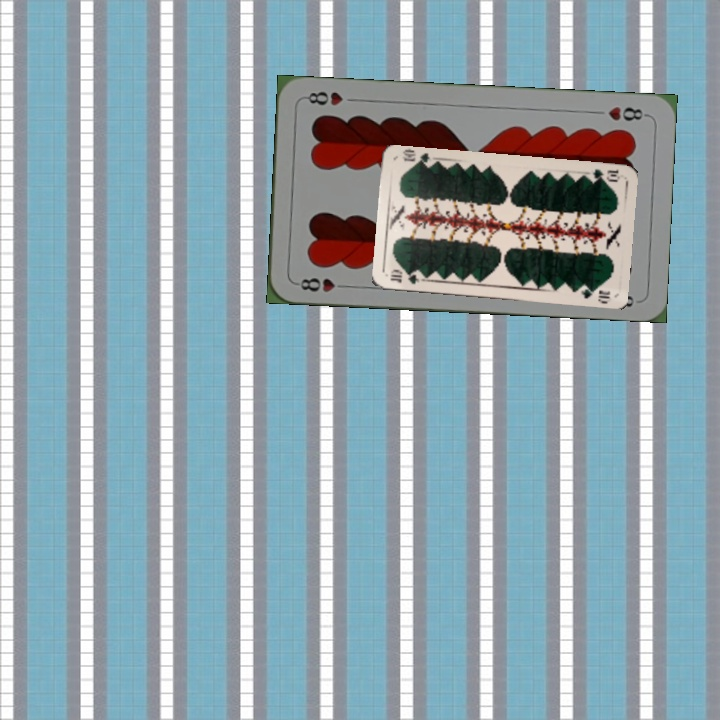G10: (386, 267, 422, 286), (589, 165, 623, 185)
H8: (292, 274, 351, 295), (604, 102, 650, 124)
